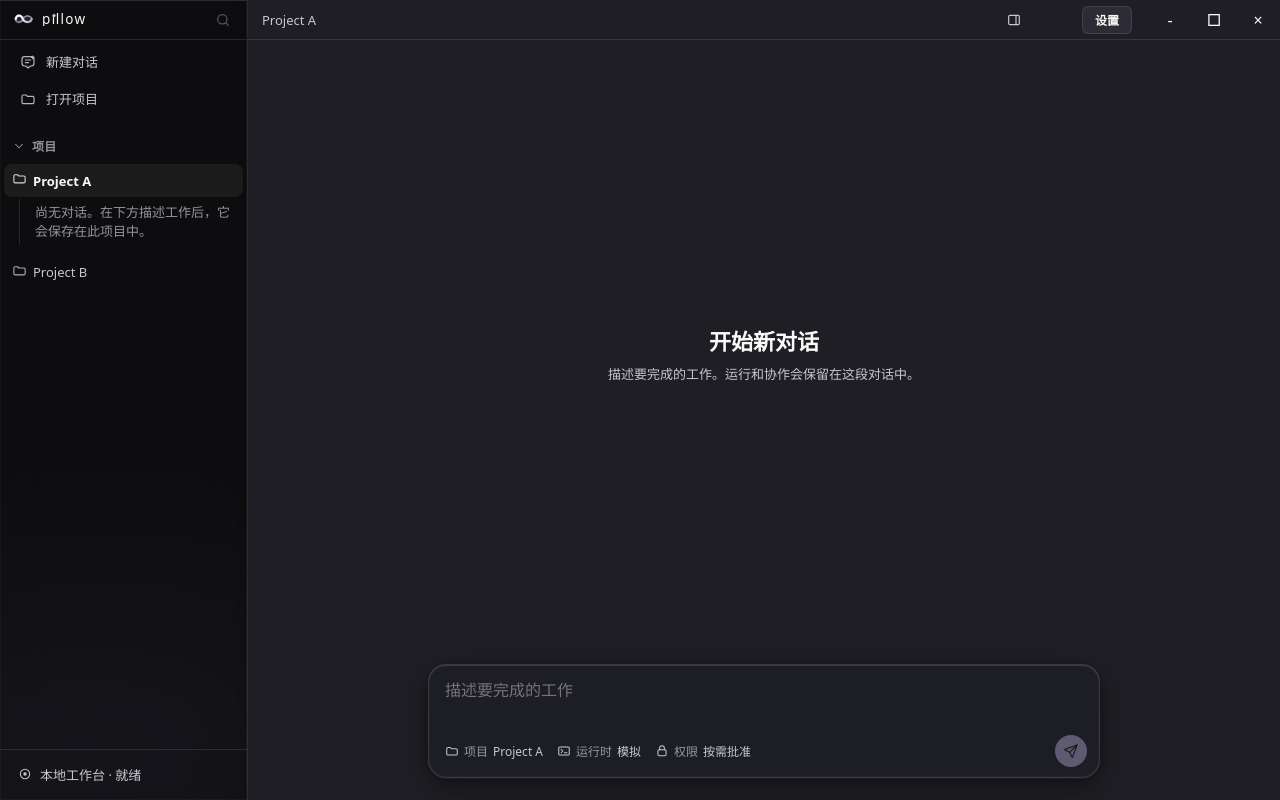
Test: resource workbench integration (C2-D) › late project-A success and failure cannot appear under project B
The width and height of the screenshot is (1280, 800).
Check: the heading "Project A" is shown, box [262, 10, 316, 28]
Click the button with test id "resource-toggle" at [1014, 20], box [1000, 6, 1028, 34]
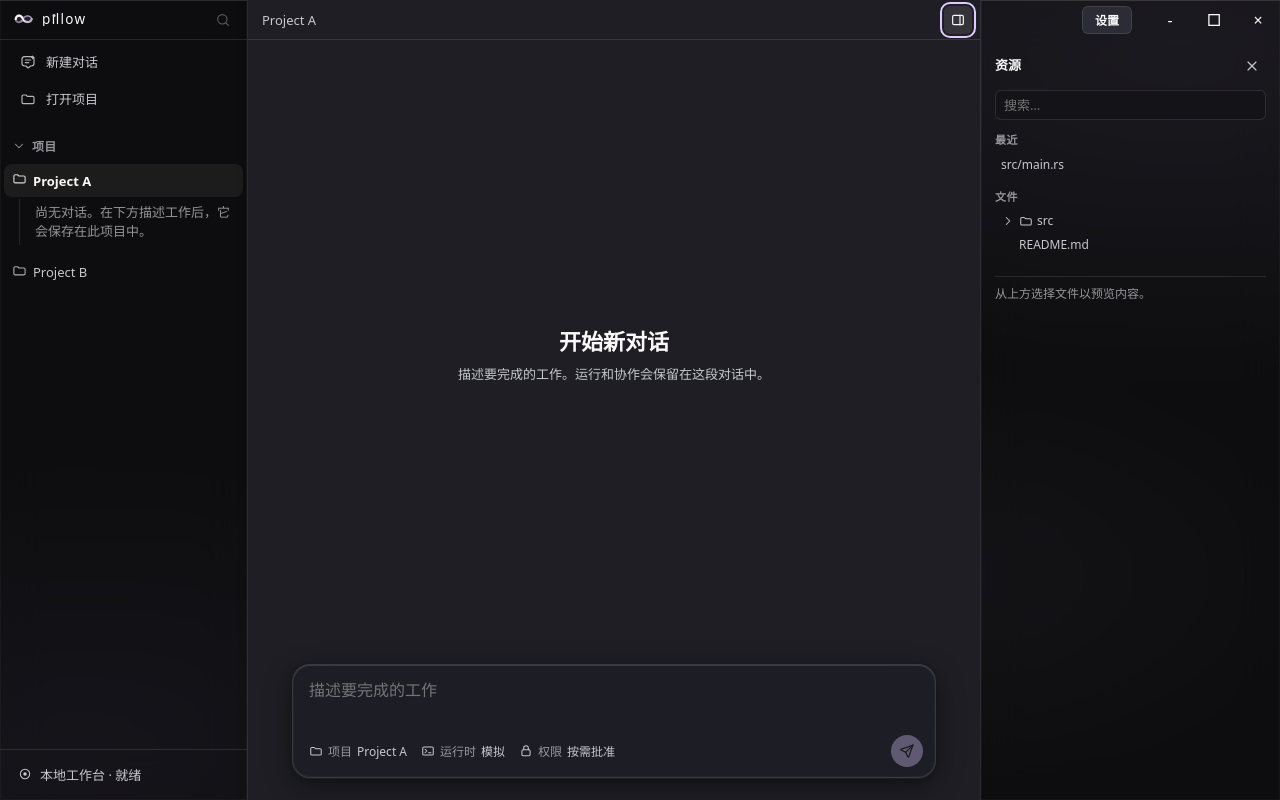
Check: the button "src/main.rs" is shown
Click the button "src/main.rs" at [1033, 164], box [995, 152, 1266, 177]
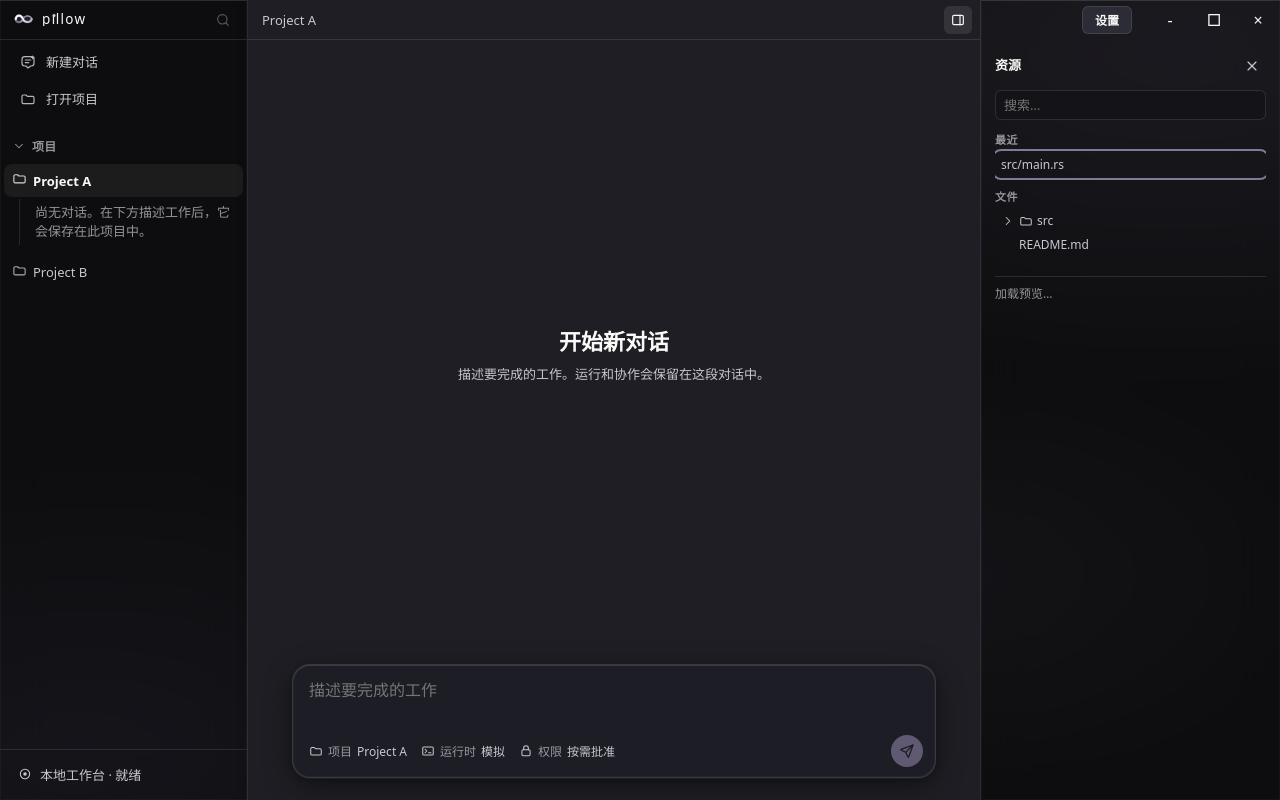
Click the button "README.md" at [1054, 244], box [995, 233, 1266, 256]
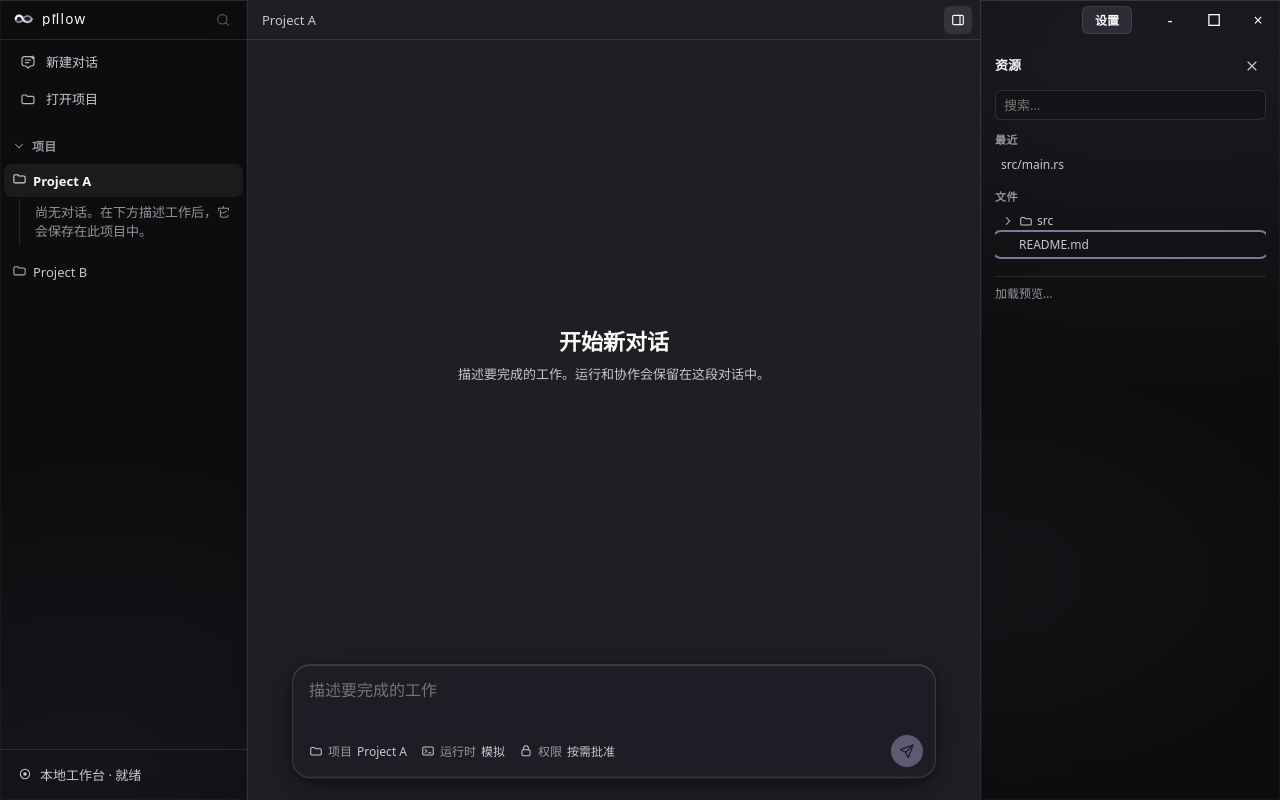
Click the button "Project B" at [124, 272], box [4, 256, 243, 289]
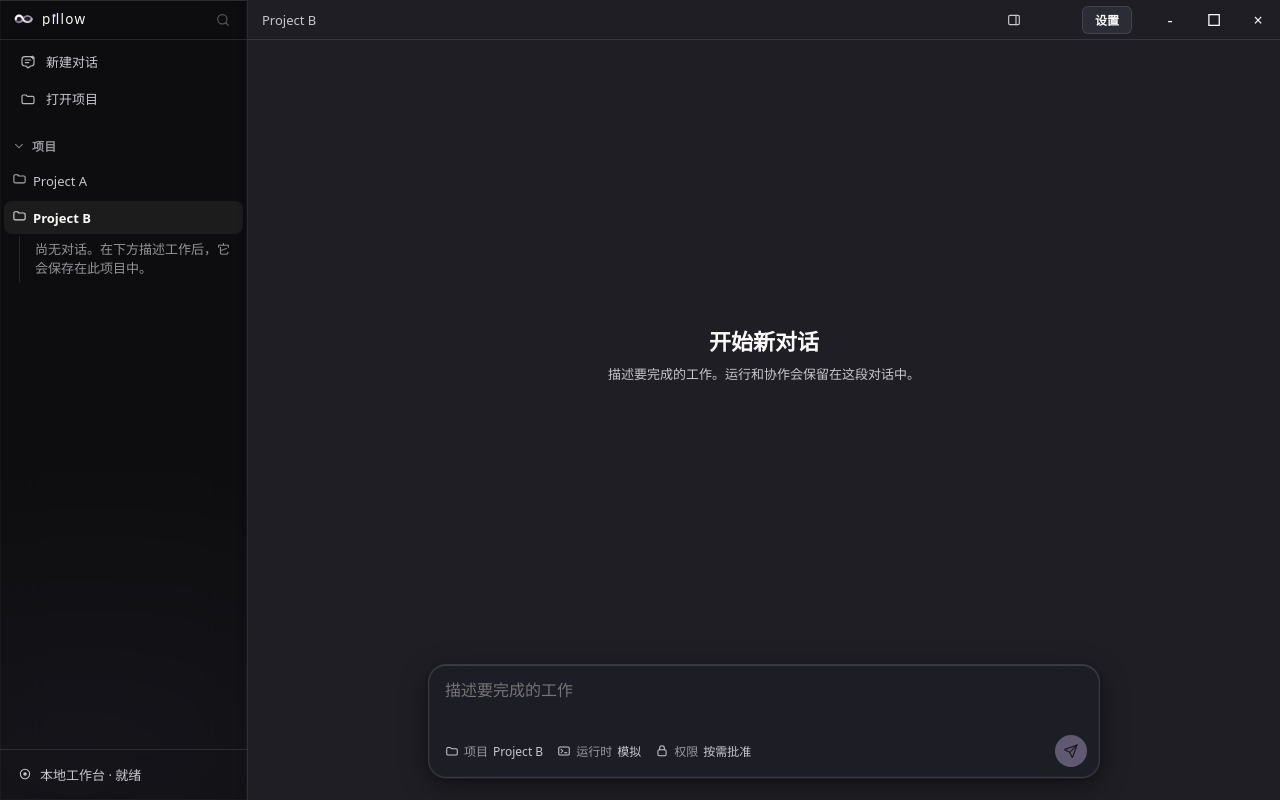
Check: the heading with test id "active-project-name" reads "Project B", box [262, 10, 316, 28]
Click the button with test id "resource-toggle" at [1014, 20], box [1000, 6, 1028, 34]
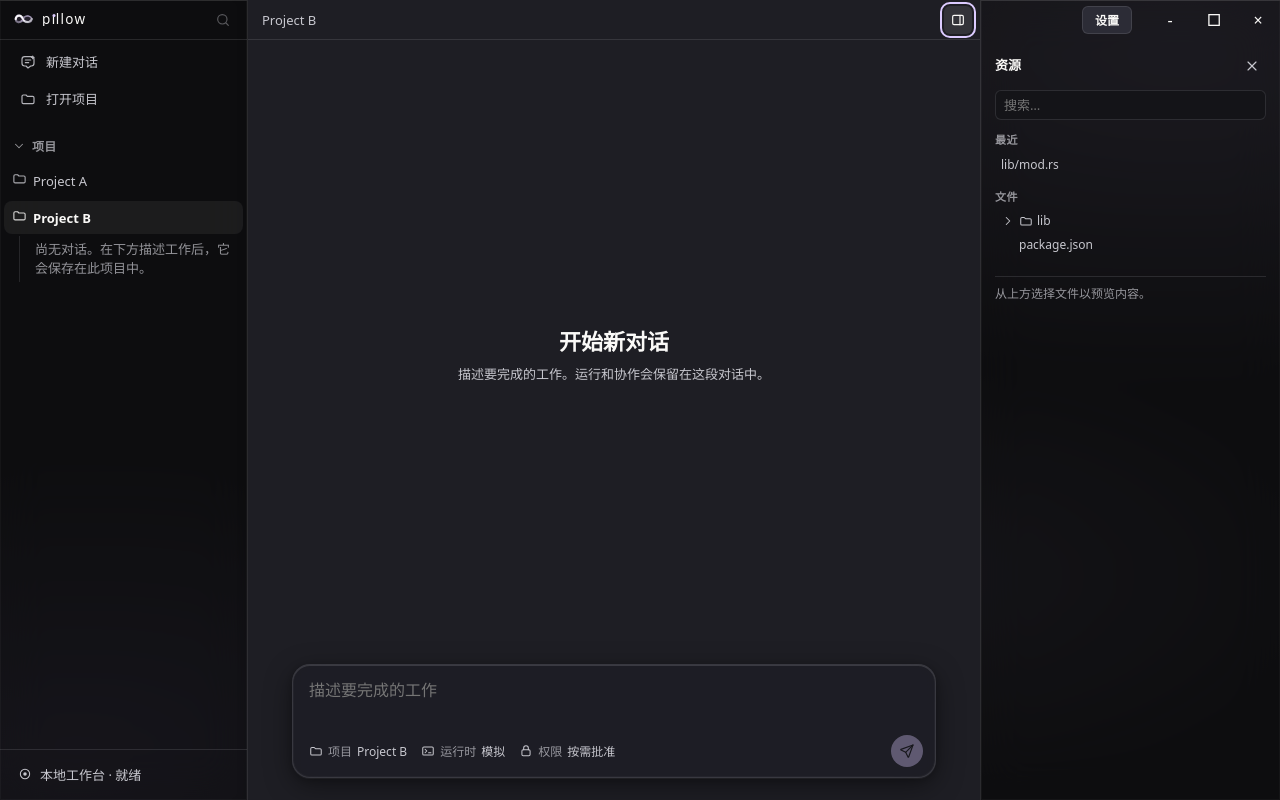
Check: the button "package.json" is shown
Click the button "package.json" at [1056, 244], box [995, 233, 1266, 256]
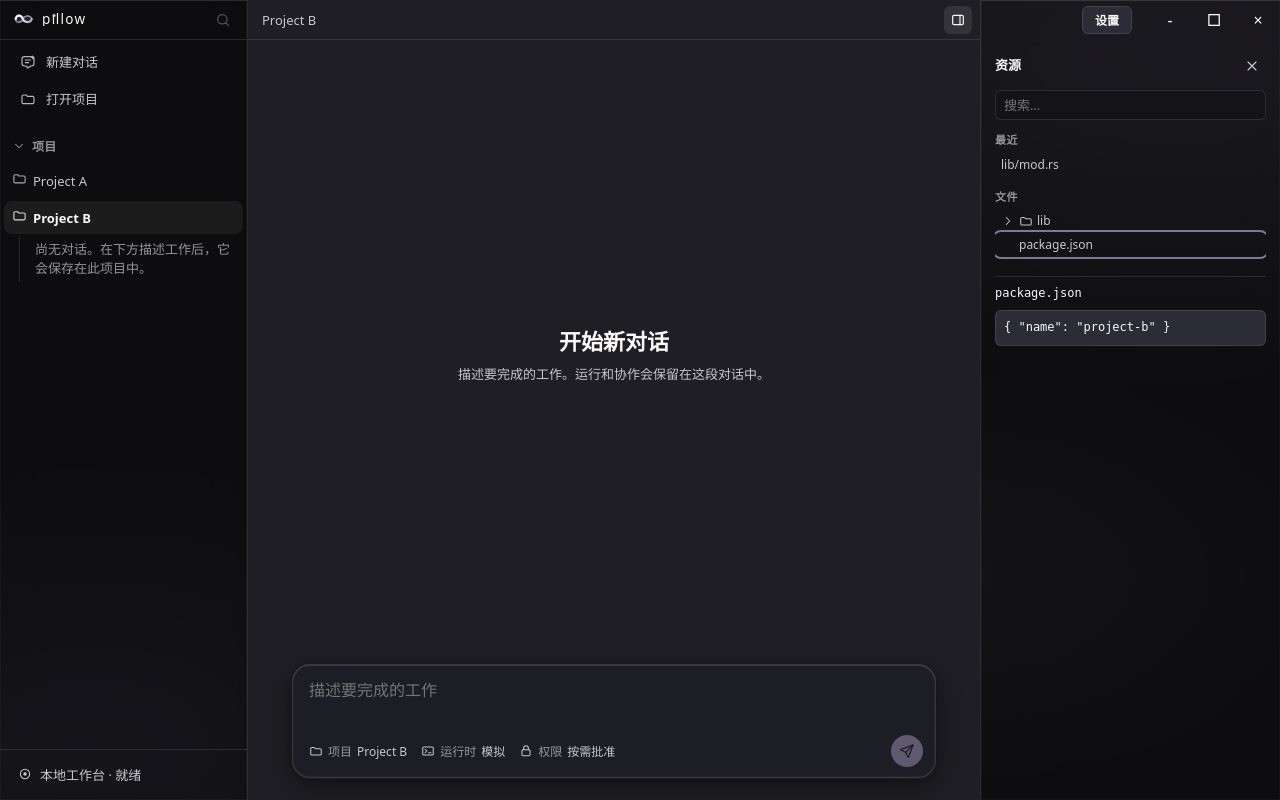
Check: the text "{ \"name\": \"project-b\" }" is shown, box [995, 310, 1266, 346]
